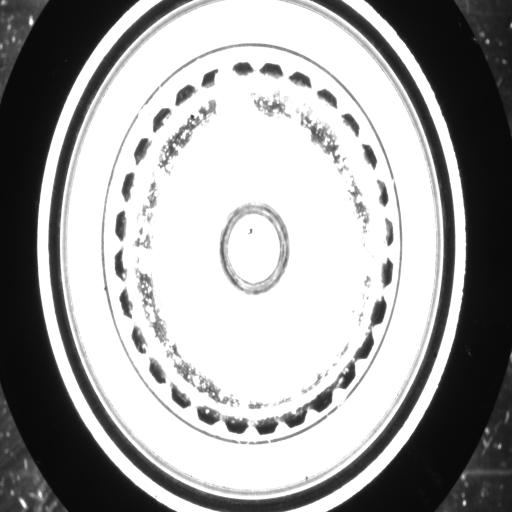gear: (111, 56, 400, 440)
